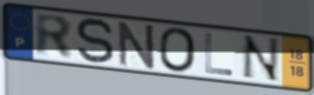L: (203, 31, 235, 78)
N: (239, 34, 282, 85), (117, 20, 158, 70)
O: (157, 26, 198, 74)
R: (33, 11, 76, 61)
S: (74, 16, 117, 66)
